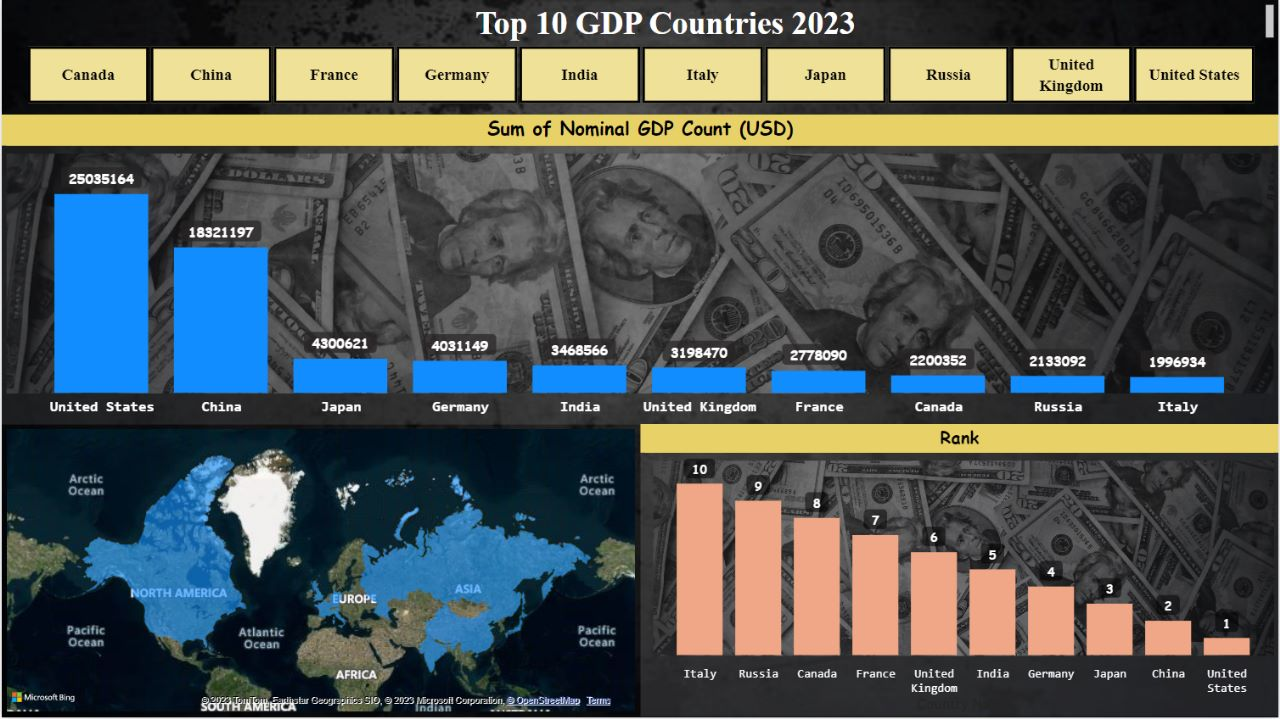

The page's visual inventory and layout, read from the dashboard file:
{"tool":"powerbi","page":{"name":"Page 1","canvas":[1280,720],"ordinal":0},"visuals":[{"type":"textbox","box":[58.5,0,1221.7,52.7],"z":0},{"type":"filledMap","fields":{"Category":["Sheet1.Country Name","Sheet1.Continent"]},"box":[0,426,640.1,293.7],"z":1000},{"type":"lineStackedColumnComboChart","title":"Sum of Nominal GDP Count (USD) ","fields":{"Category":["Sheet1.Country Name"],"Y":["Sum(Sheet1.Nominal GDP Count (USD))"]},"box":[0,114.7,1280.2,311.3],"z":2000},{"type":"slicer","fields":{"Values":["Sheet1.Country Name"]},"box":[0,39.8,1280.2,71.4],"z":3000},{"type":"clusteredColumnChart","title":"Rank","fields":{"Category":["Sheet1.Country Name"],"Y":["Sum(Sheet1.Rank)"]},"box":[640.1,426,640.1,293.7],"z":4000}]}

Visuals, with their boxes in screenshot pixels (x1, y1, x2, y2), scaled from the page's 1280x720 canvas onto the 1280x719 screenshot:
textbox: <bbox>58, 0, 1279, 53</bbox>
filledMap - Sheet1.Country Name x Sheet1.Continent: <bbox>0, 425, 640, 718</bbox>
"Sum of Nominal GDP Count (USD) " lineStackedColumnComboChart: <bbox>0, 115, 1279, 425</bbox>
slicer - Sheet1.Country Name: <bbox>0, 40, 1279, 111</bbox>
"Rank" clusteredColumnChart: <bbox>640, 425, 1279, 718</bbox>
